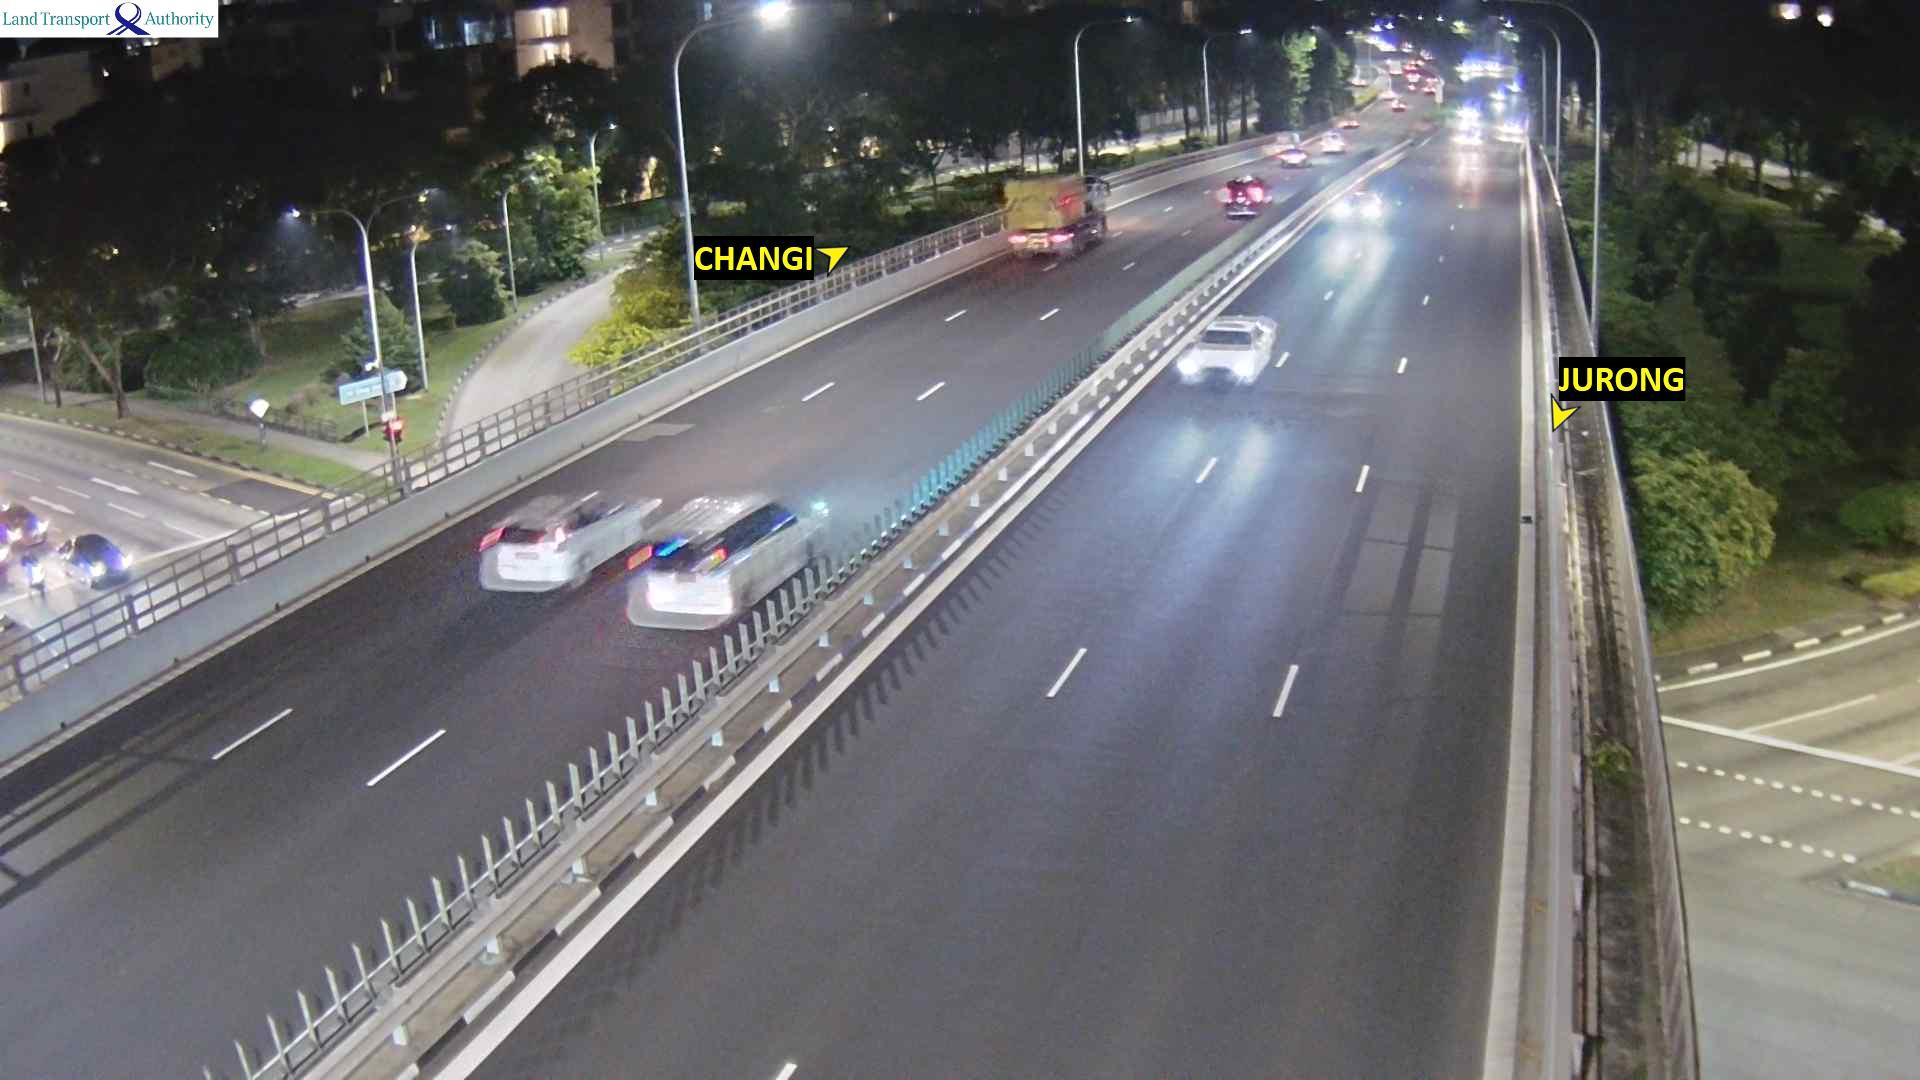cars: (624, 491, 828, 632), (475, 487, 661, 595), (1174, 313, 1276, 386), (54, 531, 131, 589), (0, 498, 49, 549), (1218, 174, 1270, 219), (1332, 189, 1383, 222), (1487, 82, 1516, 109), (1495, 117, 1524, 142), (1276, 146, 1309, 167), (1451, 127, 1484, 145), (1456, 99, 1482, 121), (1320, 131, 1345, 153), (1337, 116, 1358, 128), (1389, 98, 1406, 112), (1379, 88, 1399, 100), (1422, 83, 1439, 95), (1404, 73, 1422, 83), (1404, 61, 1419, 71), (1424, 75, 1440, 84)
trucks: (1001, 174, 1110, 261), (1387, 58, 1403, 79)
